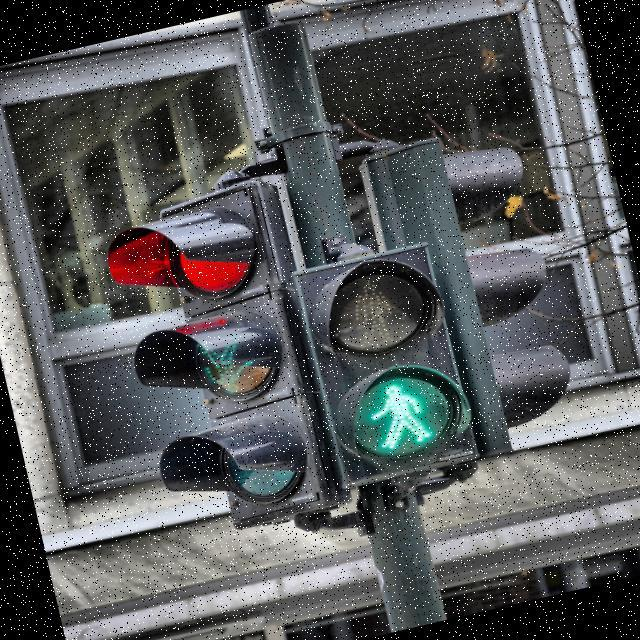green_light: (360, 374, 438, 455)
